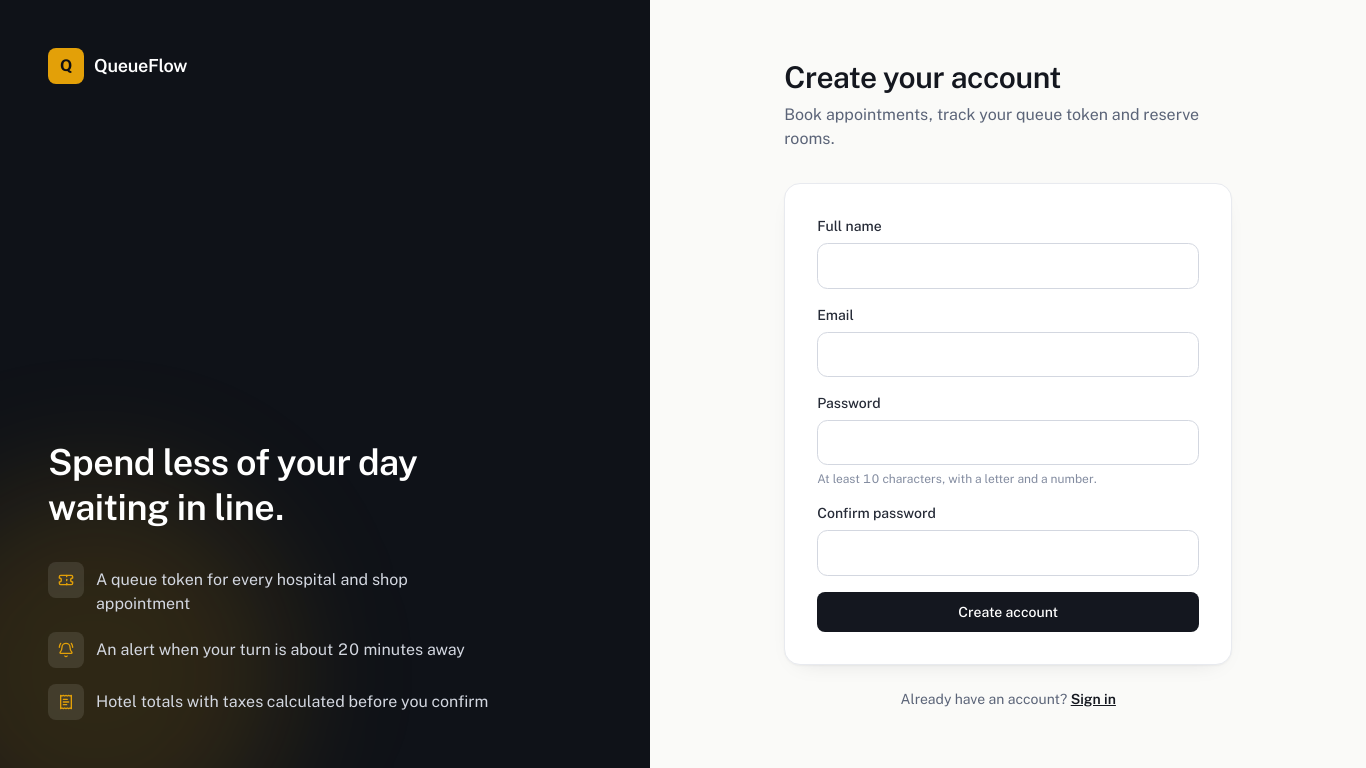
it: Register page › shows field errors and does not submit invalid input
The image size is (1366, 768).
Click the button "Create account" at [1008, 612], box 817,592 -> 1199,632
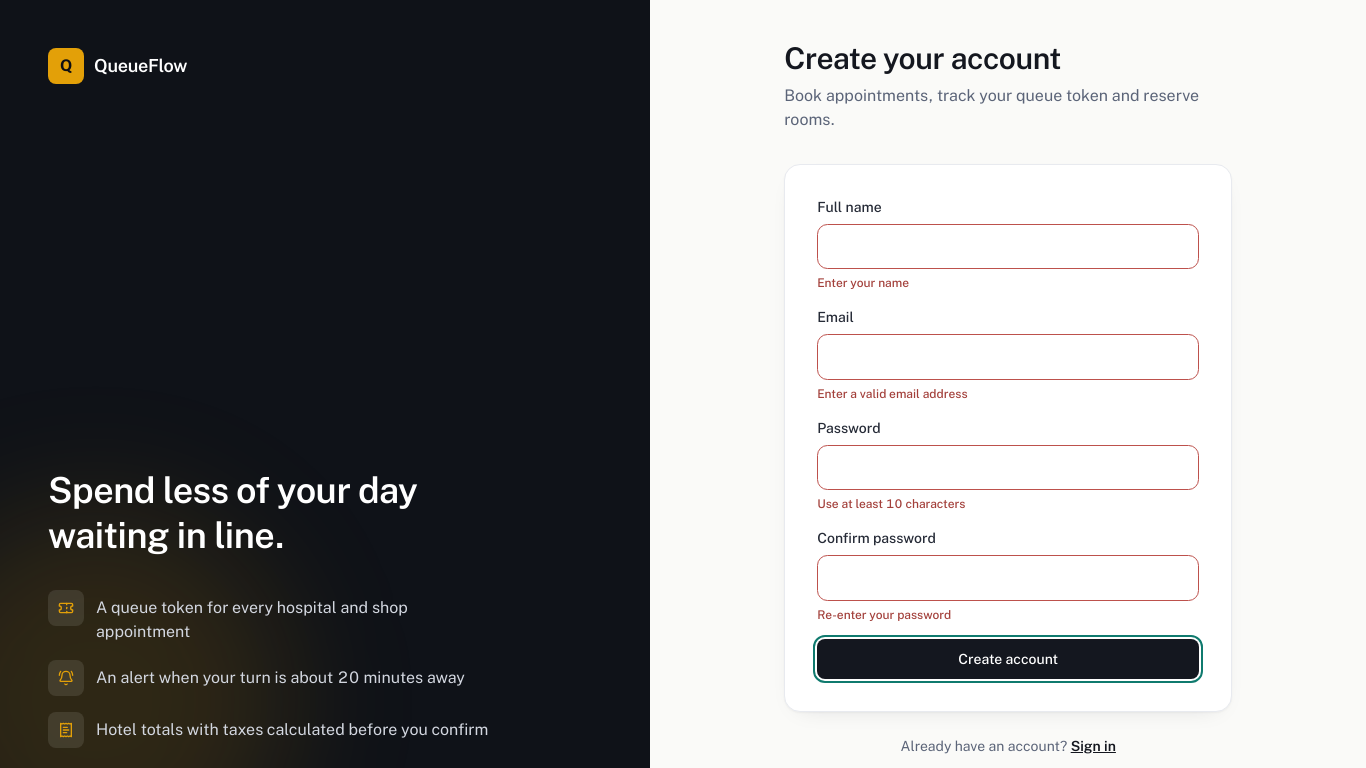
Check: the text "Enter your name" is shown, box 817,276 -> 909,290
